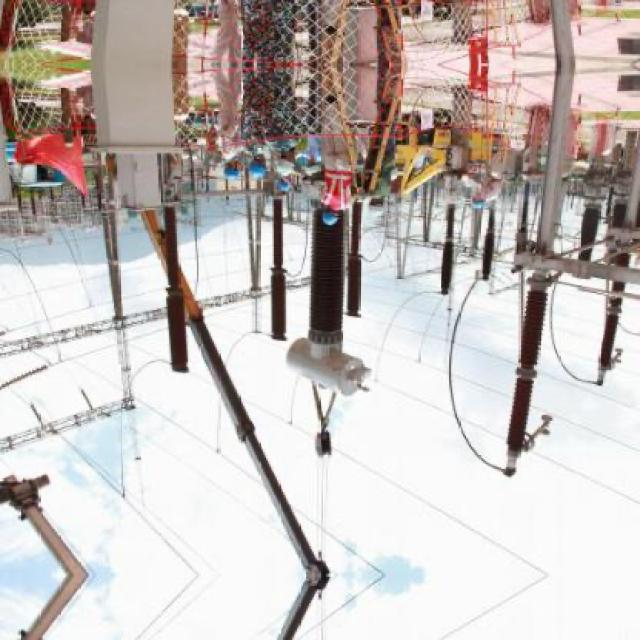con casco: (237, 142, 359, 217), (308, 205, 349, 231), (229, 167, 271, 190), (241, 162, 272, 184)
